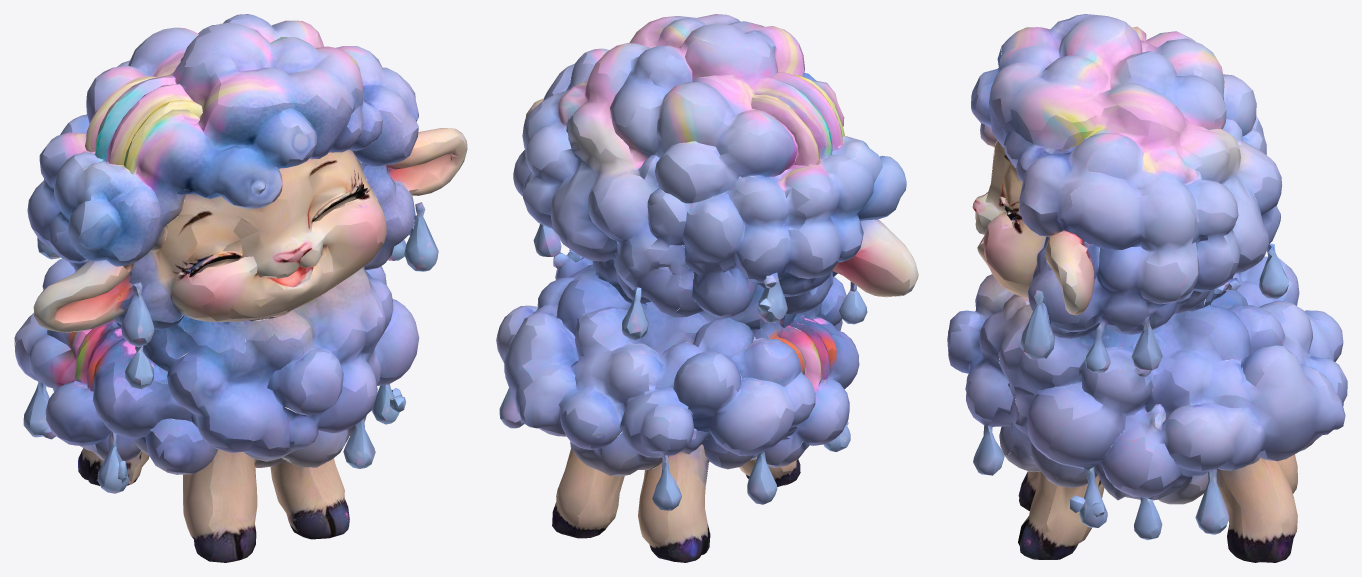
Rendered from stormlamb.glb.
The picture shows the model from 3 angles, left to right: view 1: azimuth 30°, elevation 25°; view 2: azimuth 150°, elevation 25°; view 3: azimuth 270°, elevation 25°; orthographic projection. The views are drawn at different scales.
Parts seen in each view (by area): view 1: textured_mesh.obj; view 2: textured_mesh.obj; view 3: textured_mesh.obj.
Part boxes in pixels (<box>): textured_mesh.obj: <box>14,14,467,562</box>; textured_mesh.obj: <box>496,14,918,562</box>; textured_mesh.obj: <box>947,14,1347,562</box>.
Size of the model in its own units: 0.8963 by 1 by 0.7272.
1 material, 1 textured.
